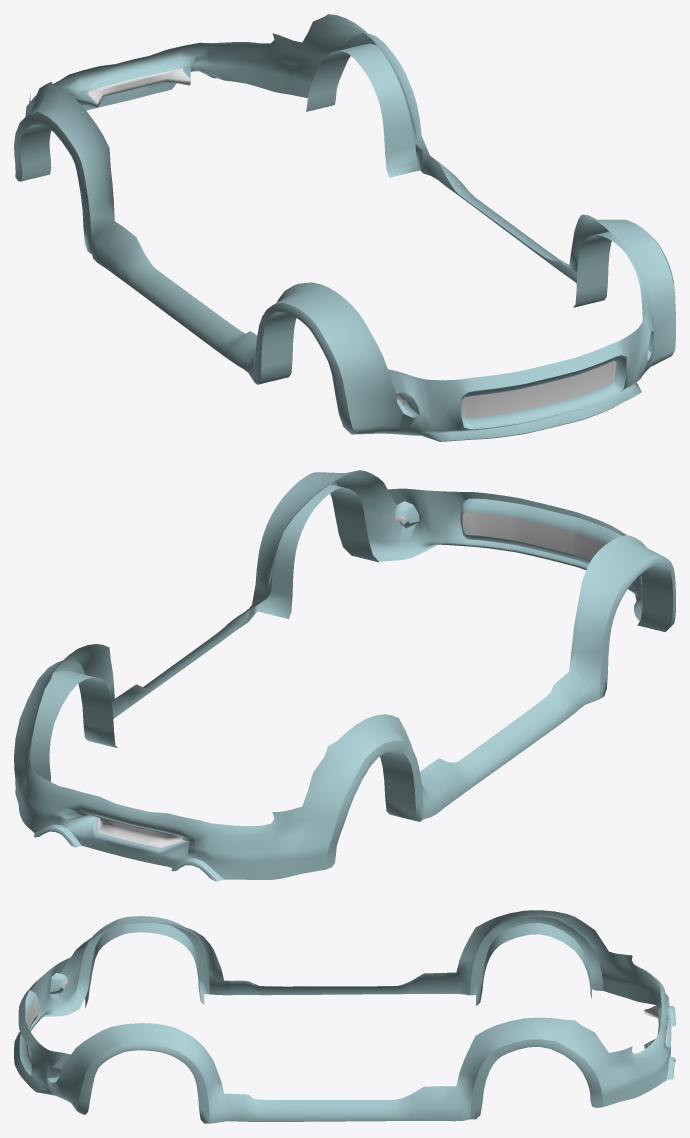
The model's file is kit 1.fbx.
3 views of the same model, one above another, from view 1: azimuth 30°, elevation 25°; view 2: azimuth 150°, elevation 25°; view 3: azimuth 270°, elevation 25° (orthographic). The views are drawn at different scales.
Parts seen in each view (by area): view 1: 350zrelease; view 2: 350zrelease; view 3: 350zrelease.
Part boxes in pixels (left/top/right/bottom): 350zrelease: left=14, top=14, right=675, bottom=441; 350zrelease: left=14, top=470, right=675, bottom=881; 350zrelease: left=14, top=910, right=675, bottom=1123.
Bounding box in the file's own units: 9.13 × 3.13 × 19.68.
